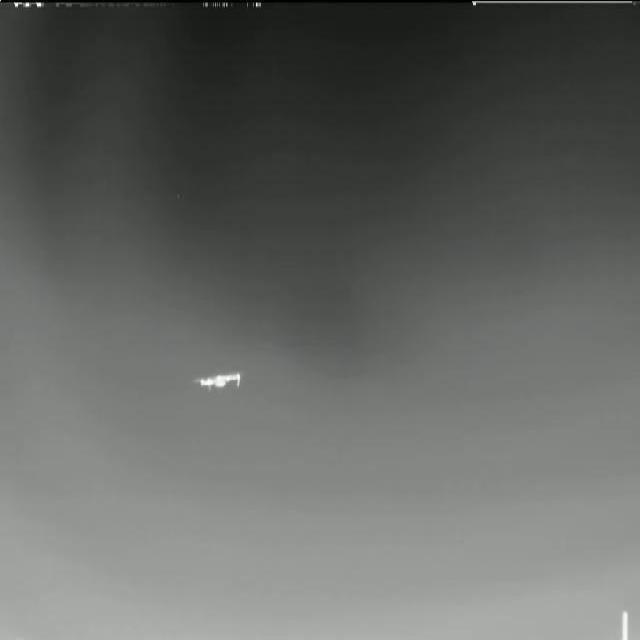DRONE: (190, 363, 250, 396)
